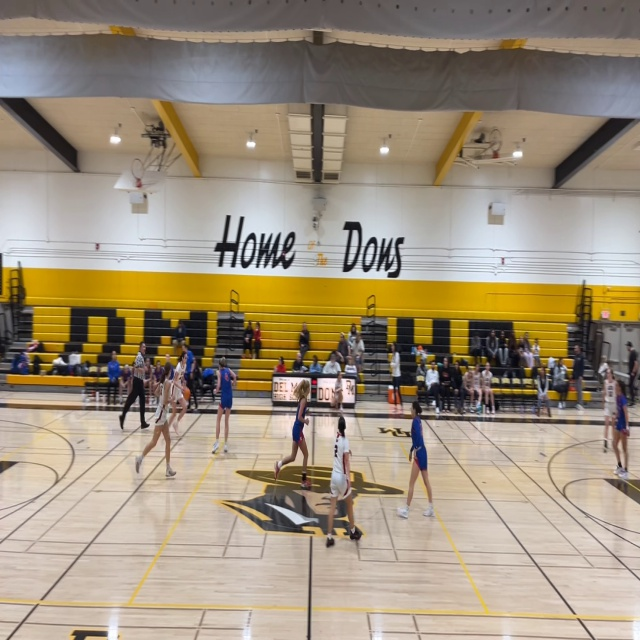Basketball: (181, 386, 191, 400)
